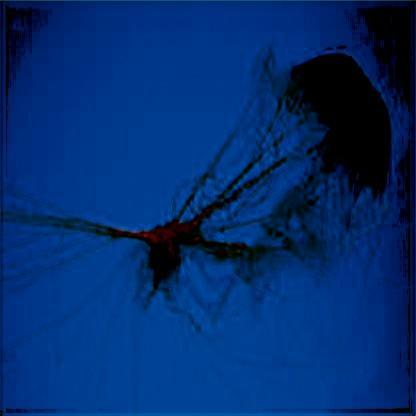Moon: (62, 51, 390, 305)
